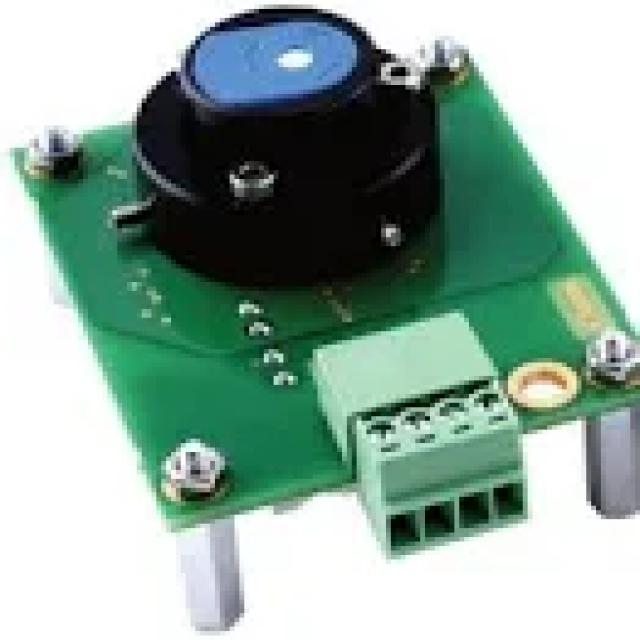pcb: (5, 0, 635, 627), (308, 304, 528, 555)
